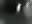person: (25, 1, 32, 18), (17, 3, 23, 16)
